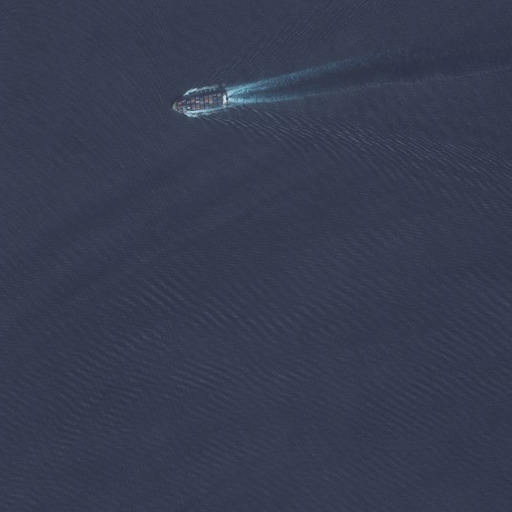ship: (169, 83, 232, 119)
